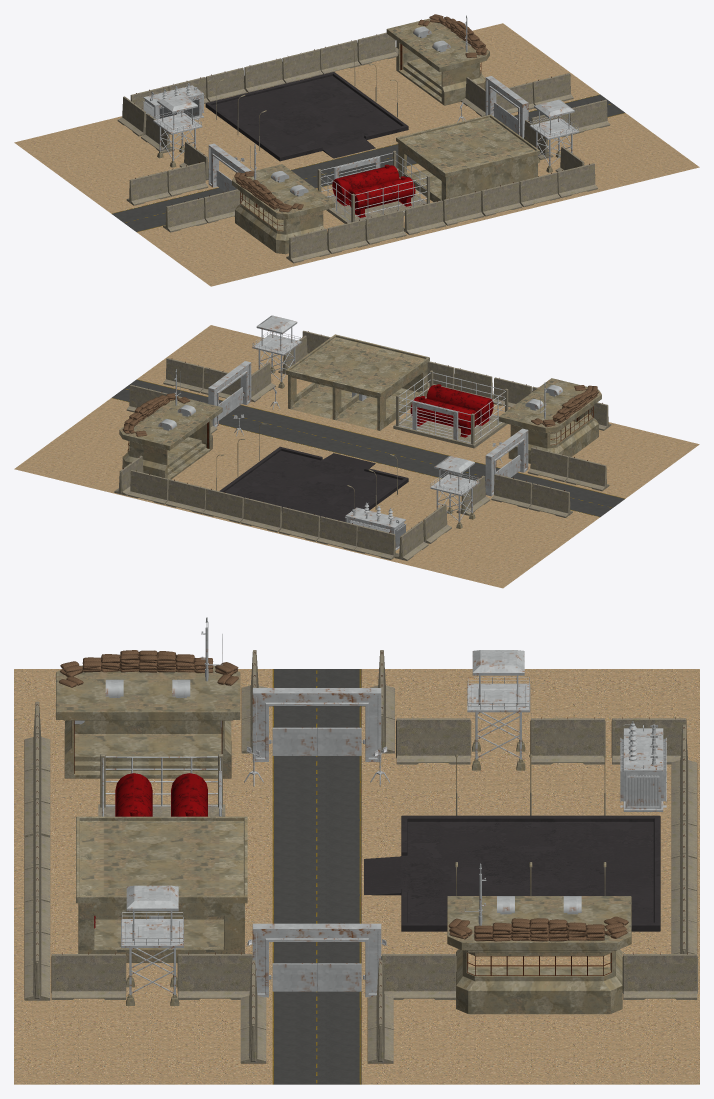
The model's file is Military_Post.fbx.
3 renders of one model, top to bottom at view 1: azimuth 30°, elevation 25°; view 2: azimuth 150°, elevation 25°; view 3: azimuth 270°, elevation 25°, orthographic. The views are drawn at different scales.
Visible parts, largest first — view 1: Ground, Parking, Garage, Military_Outpost_2, Military_Outpost_1, Tank, Watchtower_1, Watchtower_2, Transformer, Gate_4, Fence_30, Fence_1 (+24 smaller); view 2: Ground, Garage, Parking, Military_Outpost_2, Military_Outpost_1, Tank, Watchtower_1, Watchtower_2, Gate_1, Transformer, Fence_1, Fence_25 (+22 smaller); view 3: Ground, Parking, Military_Outpost_1, Garage, Military_Outpost_2, Tank, Watchtower_2, Watchtower_1, Gate_1, Gate_4, Transformer, Fence_28 (+28 smaller).
Part boxes in pixels (left/top/right/bottom): Ground: left=14, top=23, right=699, bottom=286; Parking: left=205, top=48, right=408, bottom=161; Garage: left=396, top=114, right=539, bottom=203; Military_Outpost_2: left=386, top=14, right=489, bottom=105; Military_Outpost_1: left=232, top=143, right=334, bottom=254; Tank: left=317, top=150, right=429, bottom=224; Watchtower_1: left=153, top=94, right=202, bottom=167; Watchtower_2: left=529, top=99, right=578, bottom=172; Transformer: left=143, top=83, right=204, bottom=119; Gate_4: left=485, top=76, right=528, bottom=138; Fence_30: left=126, top=171, right=170, bottom=205; Fence_1: left=163, top=197, right=206, bottom=232; Ground: left=14, top=325, right=699, bottom=588; Garage: left=286, top=334, right=429, bottom=430; Parking: left=216, top=423, right=408, bottom=521; Military_Outpost_2: left=119, top=369, right=222, bottom=479; Military_Outpost_1: left=498, top=378, right=601, bottom=463; Tank: left=393, top=370, right=508, bottom=448; Watchtower_1: left=430, top=456, right=479, bottom=528; Watchtower_2: left=252, top=315, right=301, bottom=388; Gate_1: left=485, top=428, right=528, bottom=496; Transformer: left=345, top=502, right=406, bottom=550; Fence_1: left=565, top=456, right=609, bottom=491; Fence_25: left=354, top=525, right=398, bottom=559; Ground: left=14, top=669, right=699, bottom=1084; Parking: left=364, top=754, right=660, bottom=931; Military_Outpost_1: left=56, top=617, right=240, bottom=778; Garage: left=76, top=816, right=247, bottom=962; Military_Outpost_2: left=447, top=863, right=631, bottom=1014; Tank: left=98, top=754, right=225, bottom=816; Watchtower_2: left=121, top=885, right=183, bottom=1005; Watchtower_1: left=467, top=650, right=530, bottom=770; Gate_1: left=252, top=688, right=381, bottom=761; Gate_4: left=252, top=923, right=381, bottom=997; Transformer: left=620, top=721, right=666, bottom=811; Fence_28: left=396, top=718, right=471, bottom=764.
Bounding box in the file's own units: 5309 × 829 × 3703.
2 materials, 1 textured.
